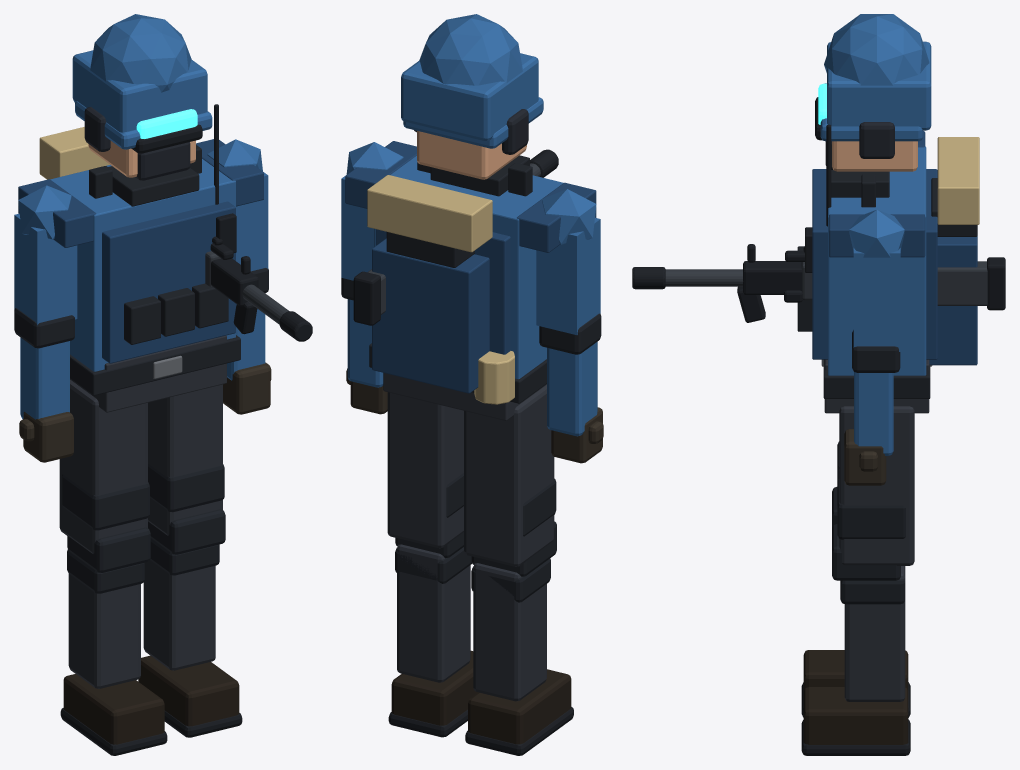
Rendered from soldier.glb.
The picture shows the model from 3 angles, left to right: view 1: azimuth 30°, elevation 25°; view 2: azimuth 150°, elevation 25°; view 3: azimuth 270°, elevation 25°; orthographic projection. The views are drawn at different scales.
Visible parts, largest first — view 1: torso, head, shin_L, shin_R, leg_L, leg_R, fore_L, arm_L, rifle, fore_R, arm_R; view 2: torso, head, shin_L, leg_L, shin_R, leg_R, arm_L, fore_L, arm_R, fore_R, rifle; view 3: torso, head, shin_R, leg_R, rifle, arm_R, fore_R, shin_L.
Part boxes in pixels (left/top/right/bottom): torso: left=18, top=104, right=263, bottom=412; head: left=72, top=14, right=212, bottom=180; shin_L: left=60, top=549, right=167, bottom=755; shin_R: left=138, top=538, right=242, bottom=737; leg_L: left=59, top=379, right=150, bottom=572; leg_R: left=148, top=384, right=225, bottom=554; fore_L: left=14, top=308, right=74, bottom=462; arm_L: left=14, top=185, right=77, bottom=325; rifle: left=205, top=236, right=312, bottom=341; fore_R: left=223, top=268, right=271, bottom=414; arm_R: left=207, top=139, right=268, bottom=271; torso: left=345, top=141, right=596, bottom=420; head: left=401, top=14, right=543, bottom=179; shin_L: left=465, top=558, right=573, bottom=755; leg_L: left=464, top=385, right=556, bottom=576; shin_R: left=388, top=544, right=477, bottom=737; leg_R: left=387, top=392, right=463, bottom=558; arm_L: left=536, top=189, right=600, bottom=334; fore_L: left=539, top=313, right=603, bottom=463; arm_R: left=341, top=142, right=403, bottom=280; fore_R: left=341, top=278, right=387, bottom=414; rifle: left=353, top=149, right=558, bottom=325; torso: left=797, top=124, right=979, bottom=413; head: left=815, top=14, right=931, bottom=171; shin_R: left=801, top=566, right=910, bottom=755; leg_R: left=832, top=406, right=914, bottom=580; rifle: left=632, top=244, right=1005, bottom=322; arm_R: left=849, top=209, right=904, bottom=351; fore_R: left=844, top=330, right=900, bottom=485; shin_L: left=801, top=650, right=910, bottom=717.
Size of the model in its own units: 0.692 by 1.87 by 0.8925.
